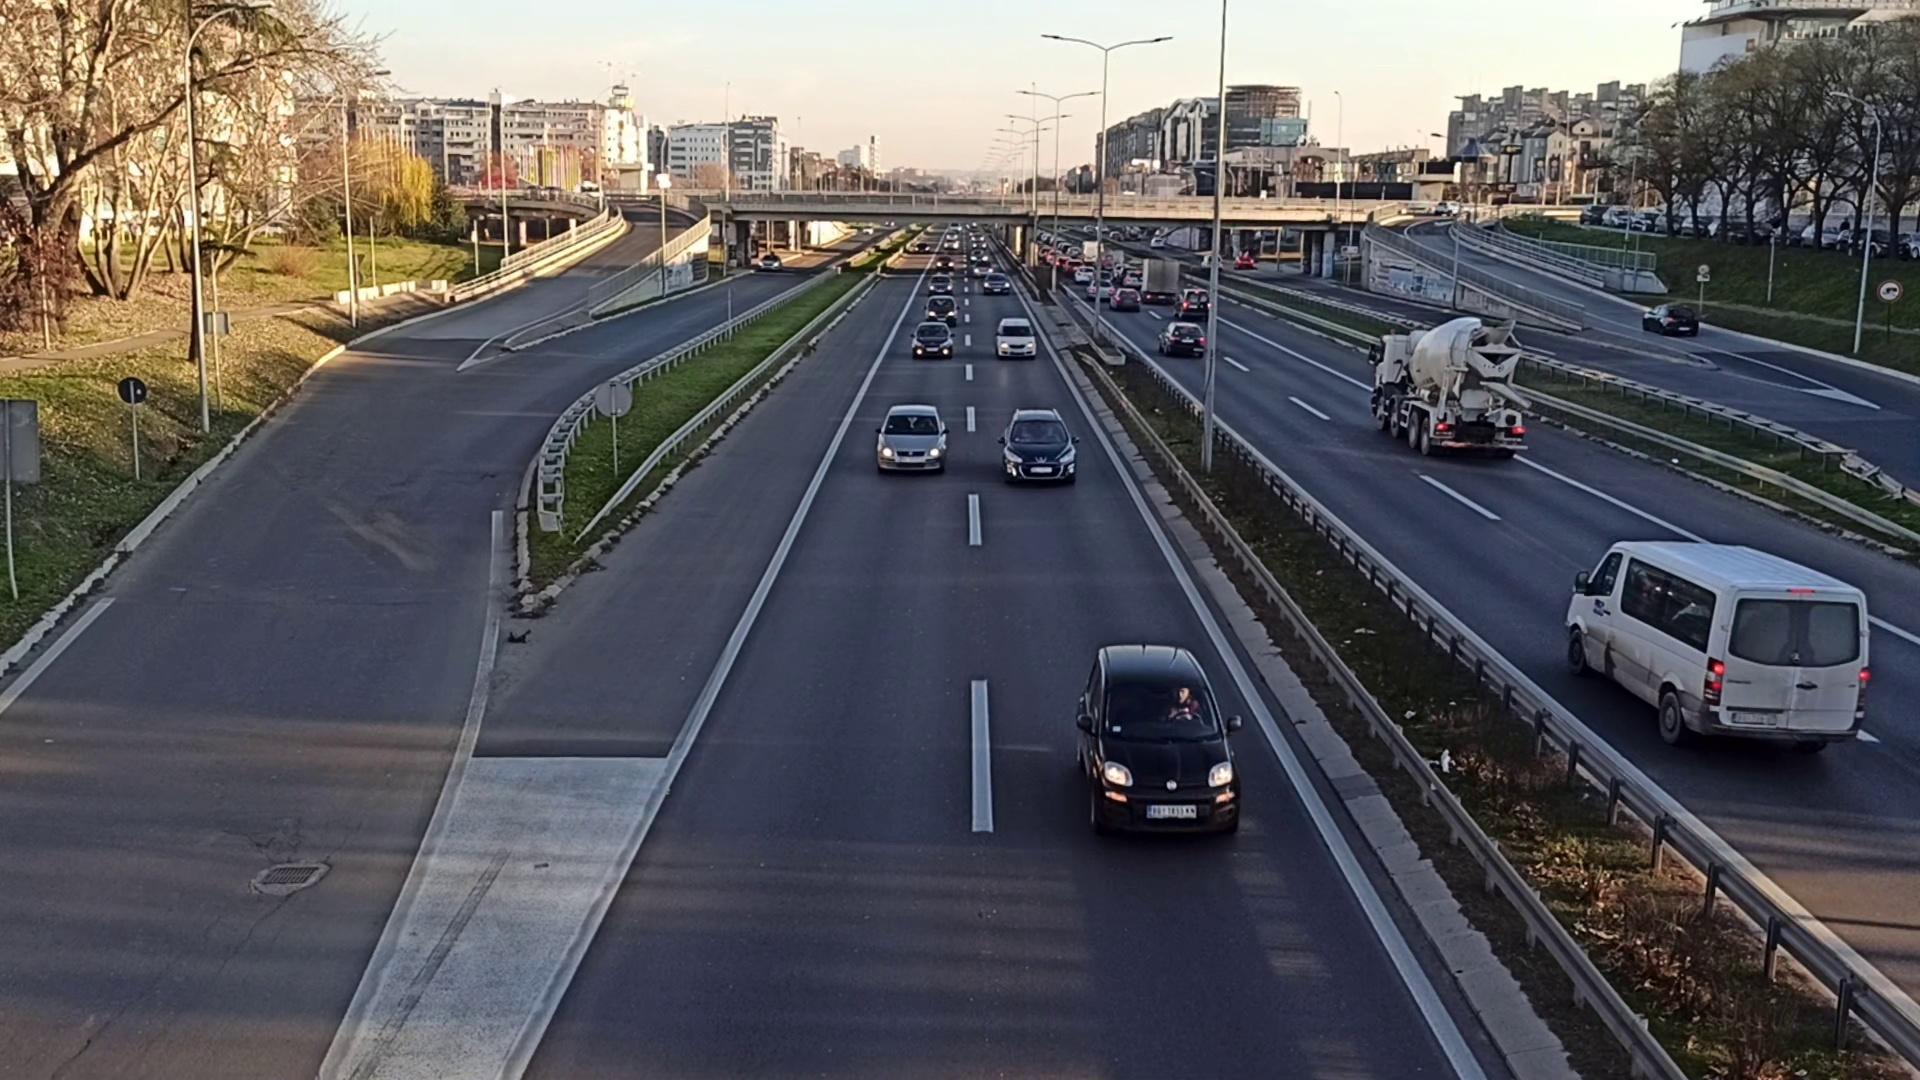car: (1075, 642, 1240, 843), (1002, 409, 1077, 483), (876, 401, 947, 472), (1640, 303, 1702, 340), (910, 323, 957, 361), (1159, 322, 1205, 360), (997, 316, 1035, 359), (924, 295, 957, 327)
truck: (1373, 313, 1524, 464)
van: (1564, 538, 1869, 752)
